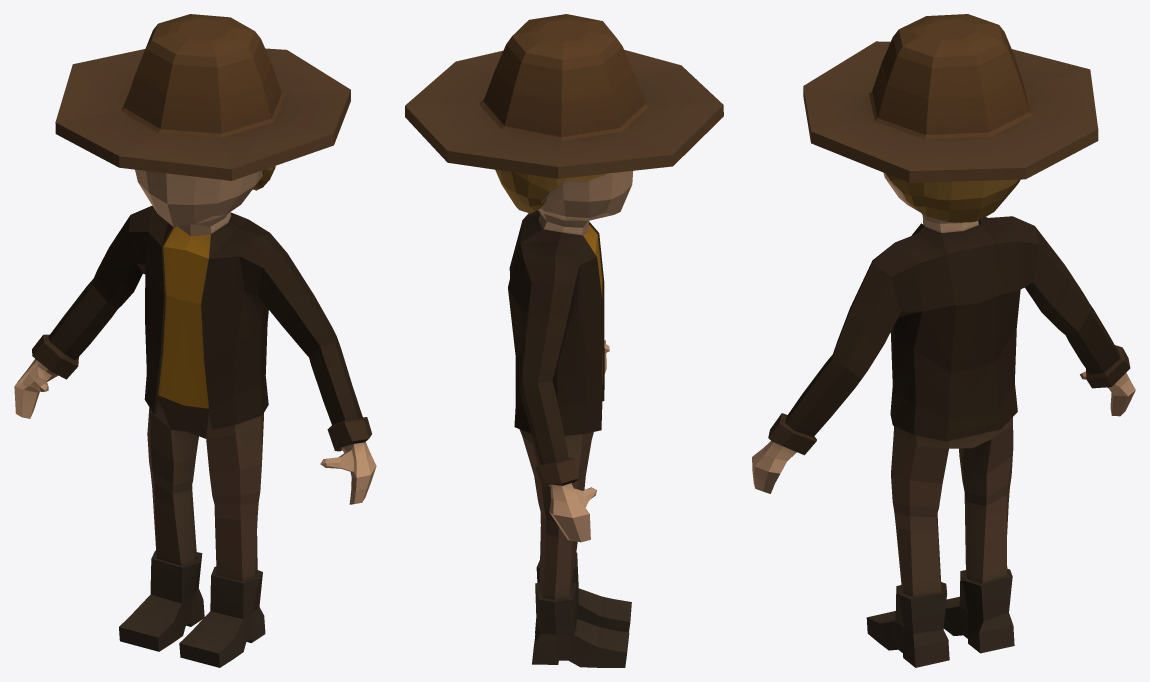
Rendered from character.gltf.
3 renders of one model, left to right at view 1: azimuth 30°, elevation 25°; view 2: azimuth 150°, elevation 25°; view 3: azimuth 270°, elevation 25°, orthographic. The views are drawn at different scales.
Parts seen in each view (by area): view 1: Character; view 2: Character; view 3: Character.
Part boxes in pixels (x1,y1,x2,y2): Character: (14, 14, 376, 667); Character: (405, 14, 723, 667); Character: (752, 14, 1135, 667).
Size of the model in its own units: 1.94 by 4.39 by 2.48.
1 material, 1 textured.
